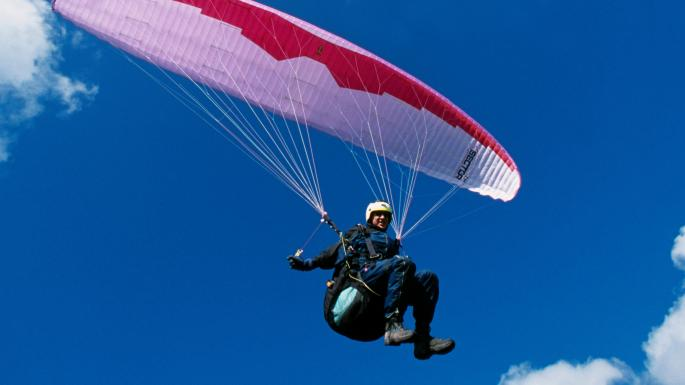Paraglider: (51, 1, 521, 197)
